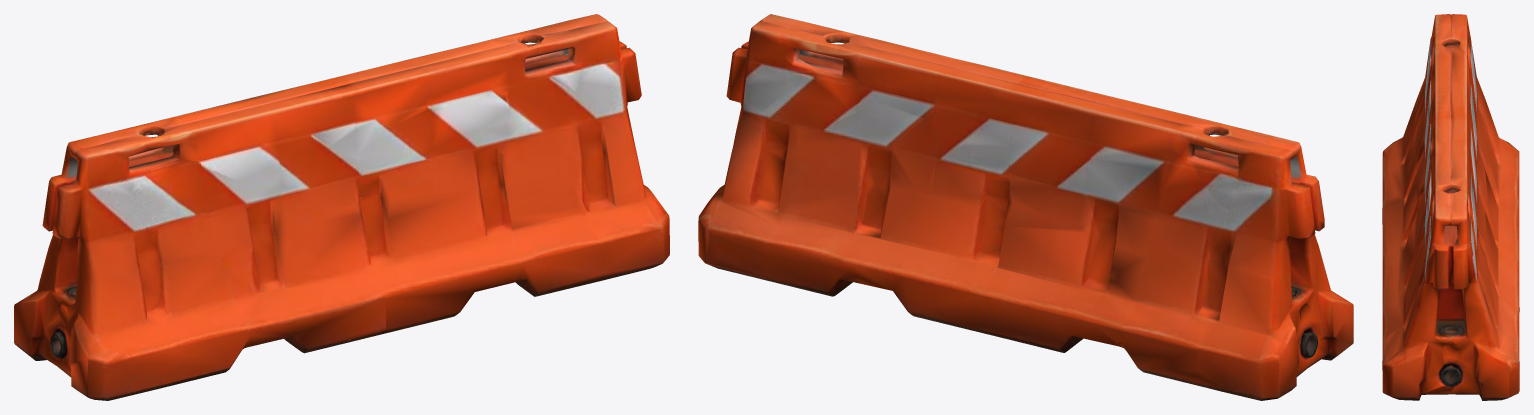
Rendered from barreira-plastica_lod0.glb.
3 renders of one model, left to right at view 1: azimuth 30°, elevation 25°; view 2: azimuth 150°, elevation 25°; view 3: azimuth 270°, elevation 25°, orthographic. The views are drawn at different scales.
Visible parts, largest first — view 1: tripo_node_9a6e7fca-7c28-44ce-9eb0-44e4d699fbc1; view 2: tripo_node_9a6e7fca-7c28-44ce-9eb0-44e4d699fbc1; view 3: tripo_node_9a6e7fca-7c28-44ce-9eb0-44e4d699fbc1.
Boxes of the visible parts, x1,y1,x2,y2 form: tripo_node_9a6e7fca-7c28-44ce-9eb0-44e4d699fbc1: (14,14,669,400); tripo_node_9a6e7fca-7c28-44ce-9eb0-44e4d699fbc1: (698,14,1353,400); tripo_node_9a6e7fca-7c28-44ce-9eb0-44e4d699fbc1: (1382,14,1519,400).
Size of the model in its own units: 1.8 by 0.6571 by 0.4637.
1 material, 1 textured.
